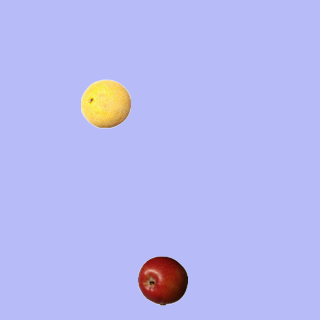Apple Braeburn: (137, 255, 187, 305)
Cantaloupe 1: (80, 78, 130, 128)
